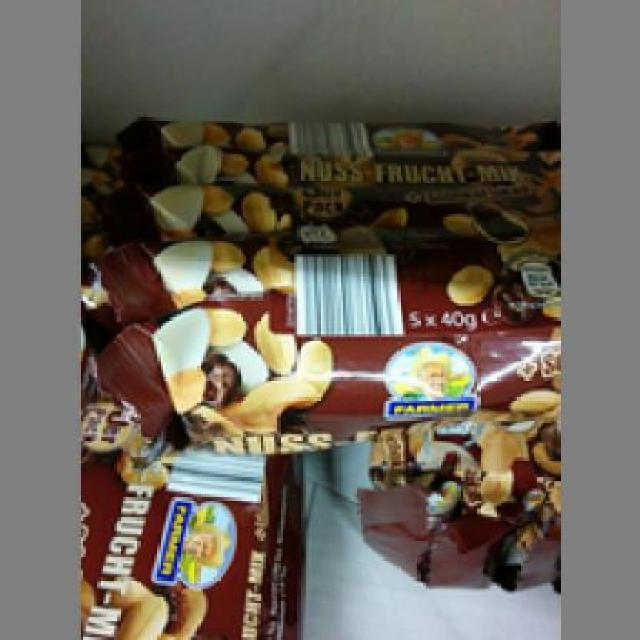Nuts: (106, 106, 554, 448)
